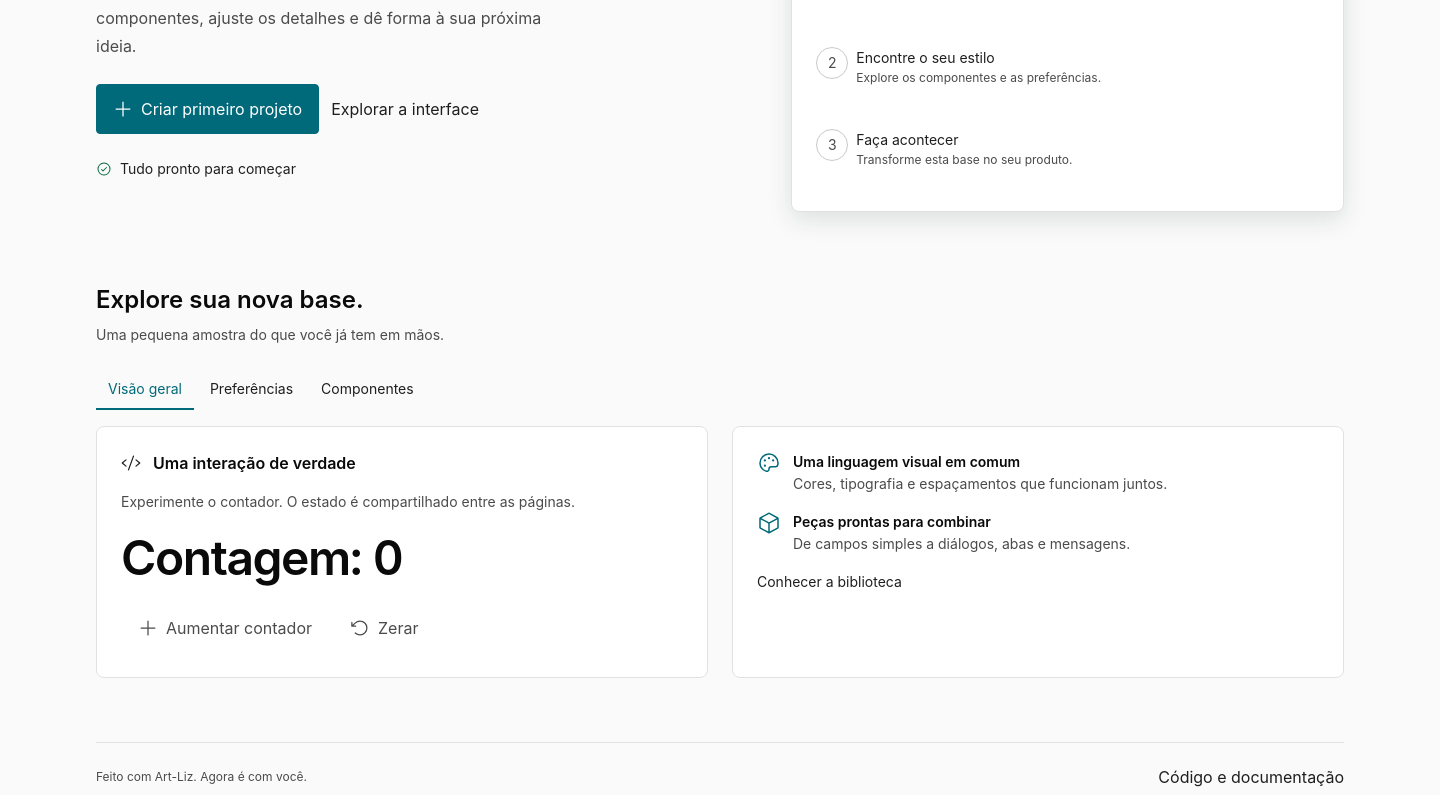
Test case: App › submits preferences locally and lets the user dismiss feedback
The width and height of the screenshot is (1440, 795).
(page scrolled)
Click the tab "Preferências" at [252, 390], box [198,370,305,410]
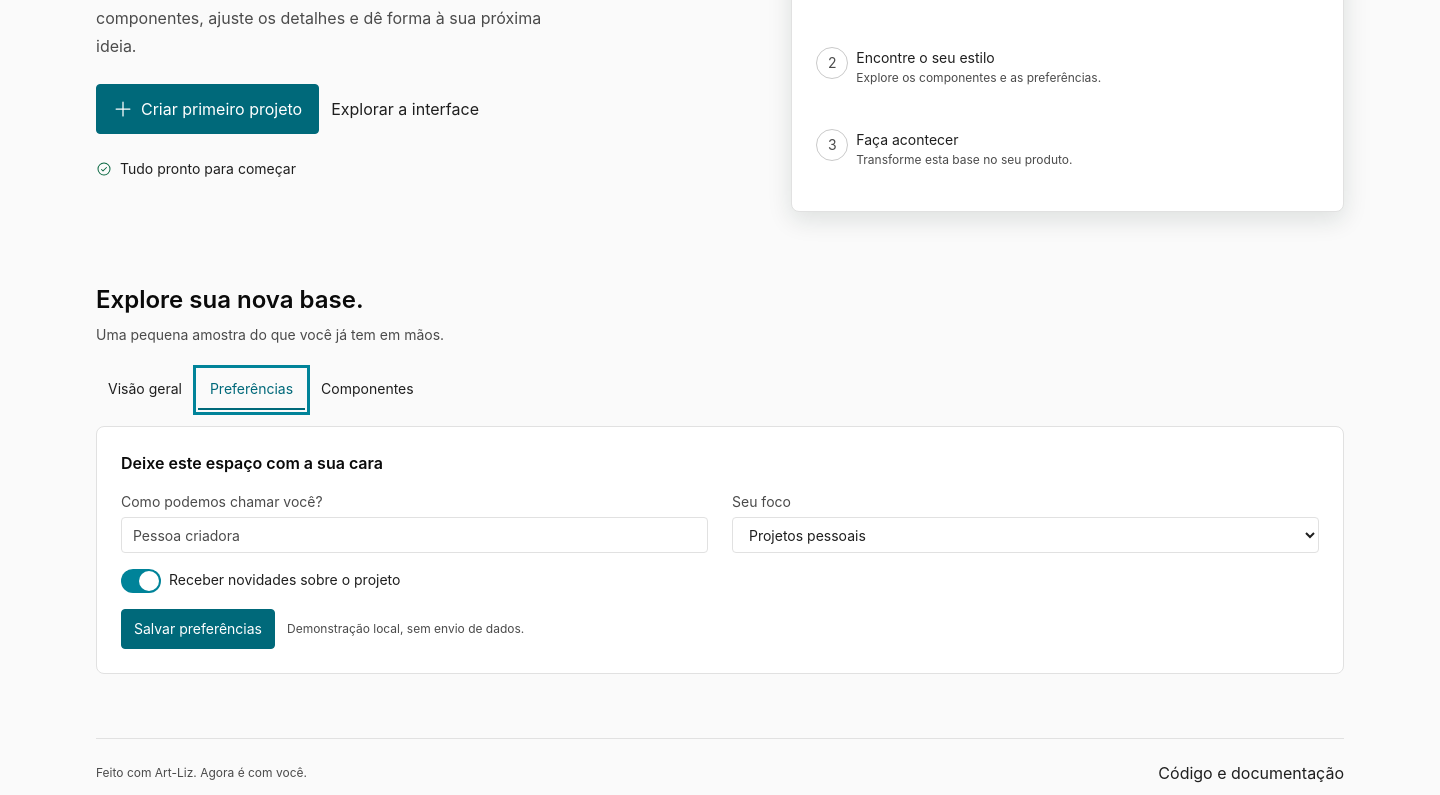
Replace the text in the field labelled "Como podemos chamar você?" with "Artur" at [414, 535], box [121,517,708,553]
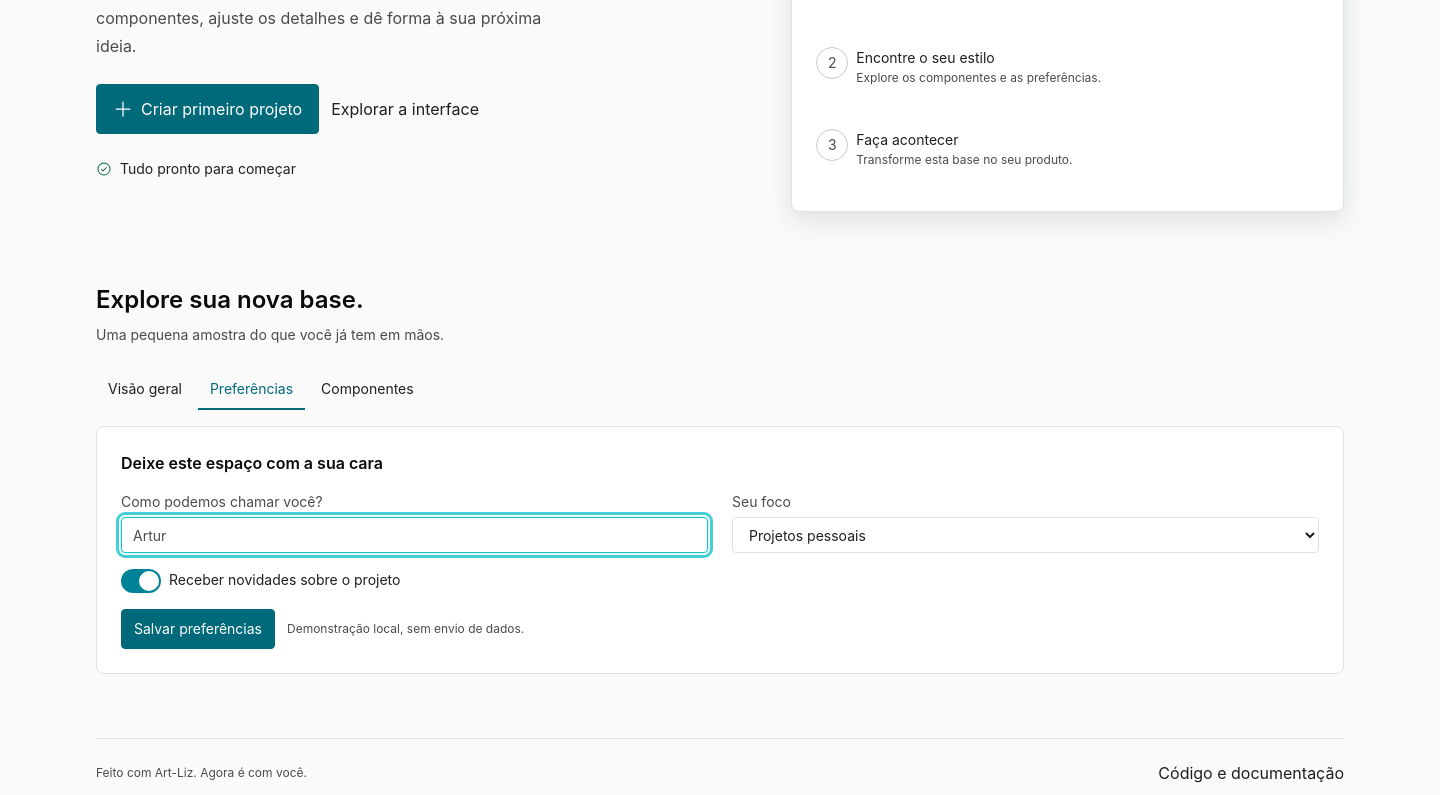
Select "Trabalho em equipe" in the dropdown labelled "Seu foco" at [1026, 535], box [732,517,1319,553]
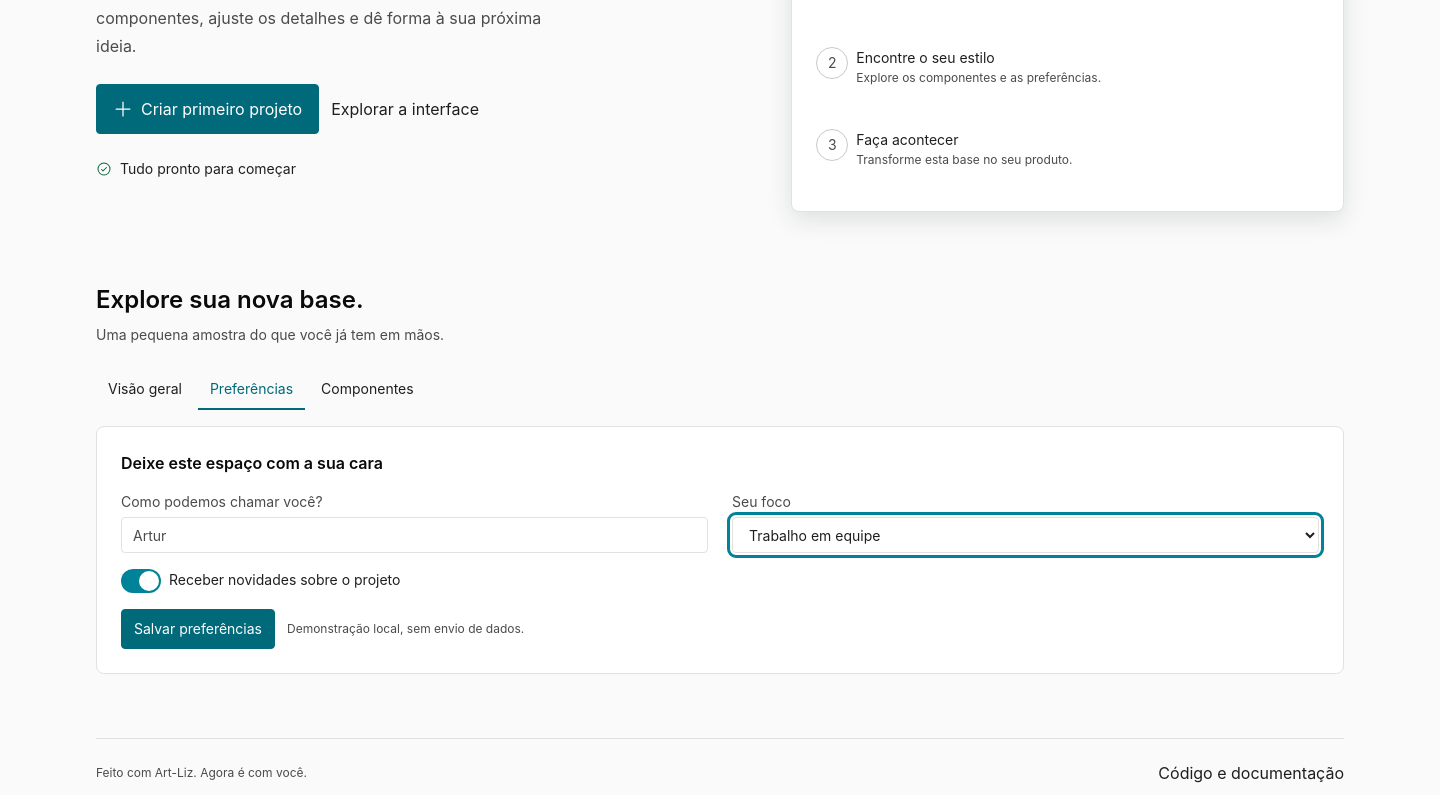
Click the switch labelled "Receber novidades sobre o projeto" at [141, 581], box [121,569,161,593]
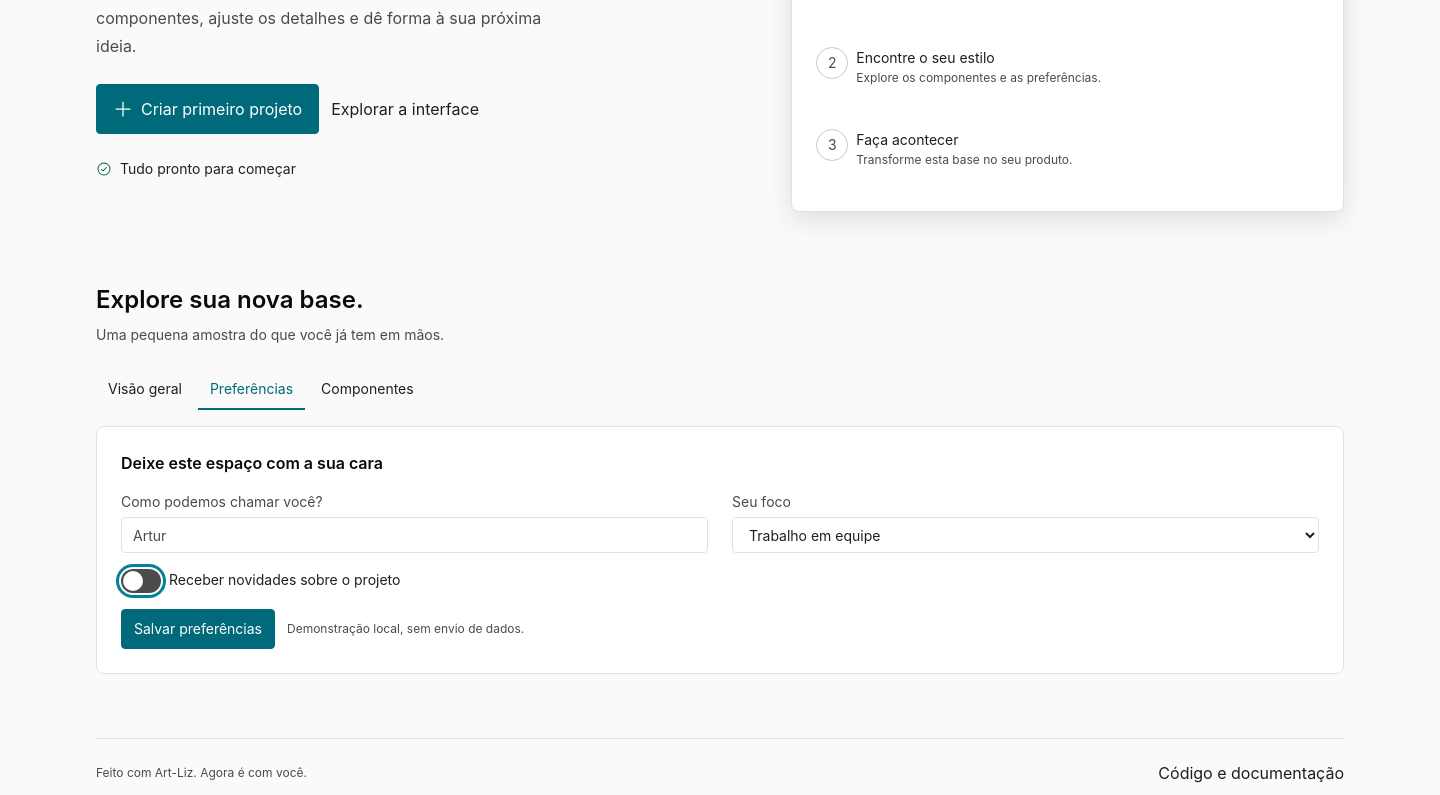
Click the button "Salvar preferências" at [198, 629], box [121,609,275,649]
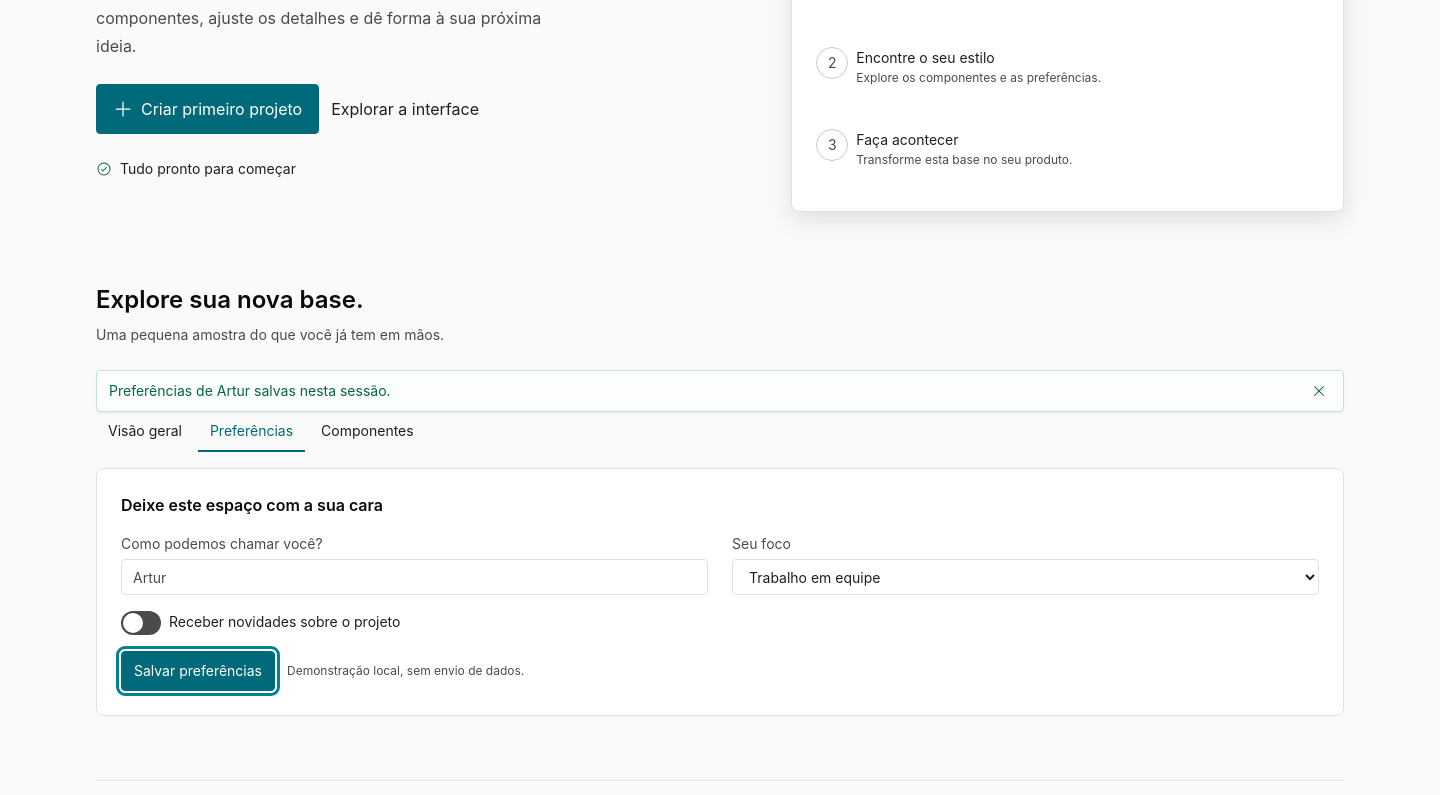
Check: the message reads "Preferências de Artur salvas nesta sessão.", box [109,382,391,399]
Click the button named "Fechar mensagem" at [1319, 391], box [1307,379,1331,403]
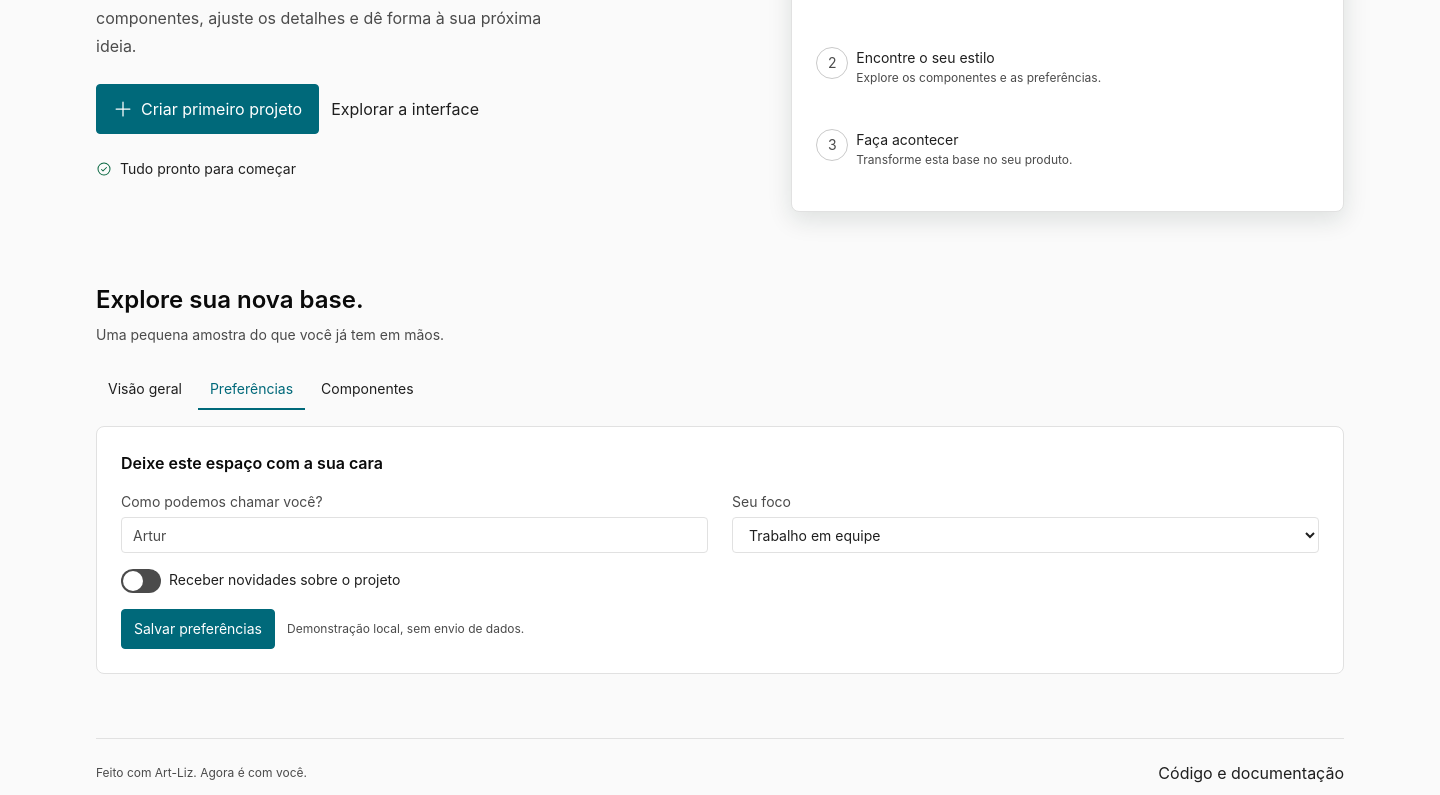
Check: the message "Preferências de Artur salvas nesta sessão." is gone
